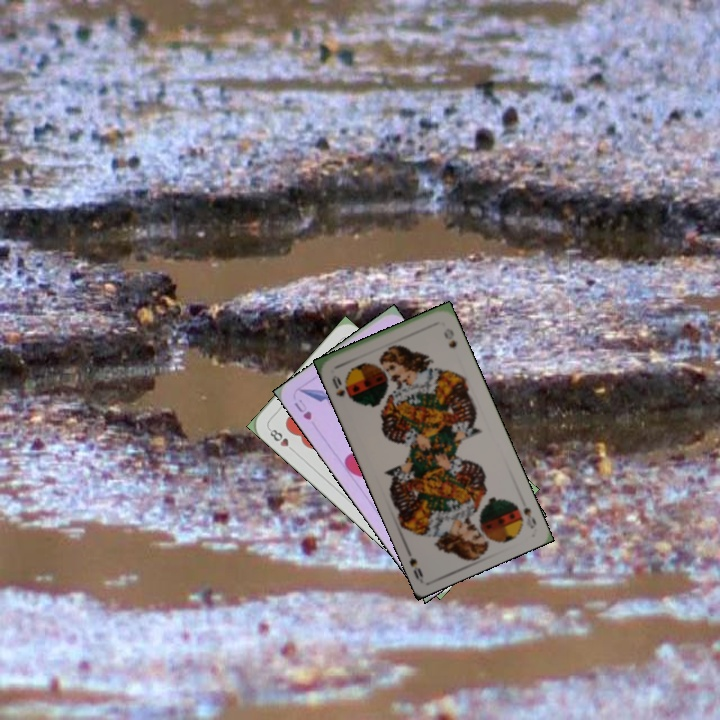H8: (265, 424, 298, 455)
HU: (290, 395, 314, 423)
SO: (328, 371, 348, 399), (519, 503, 539, 531)
